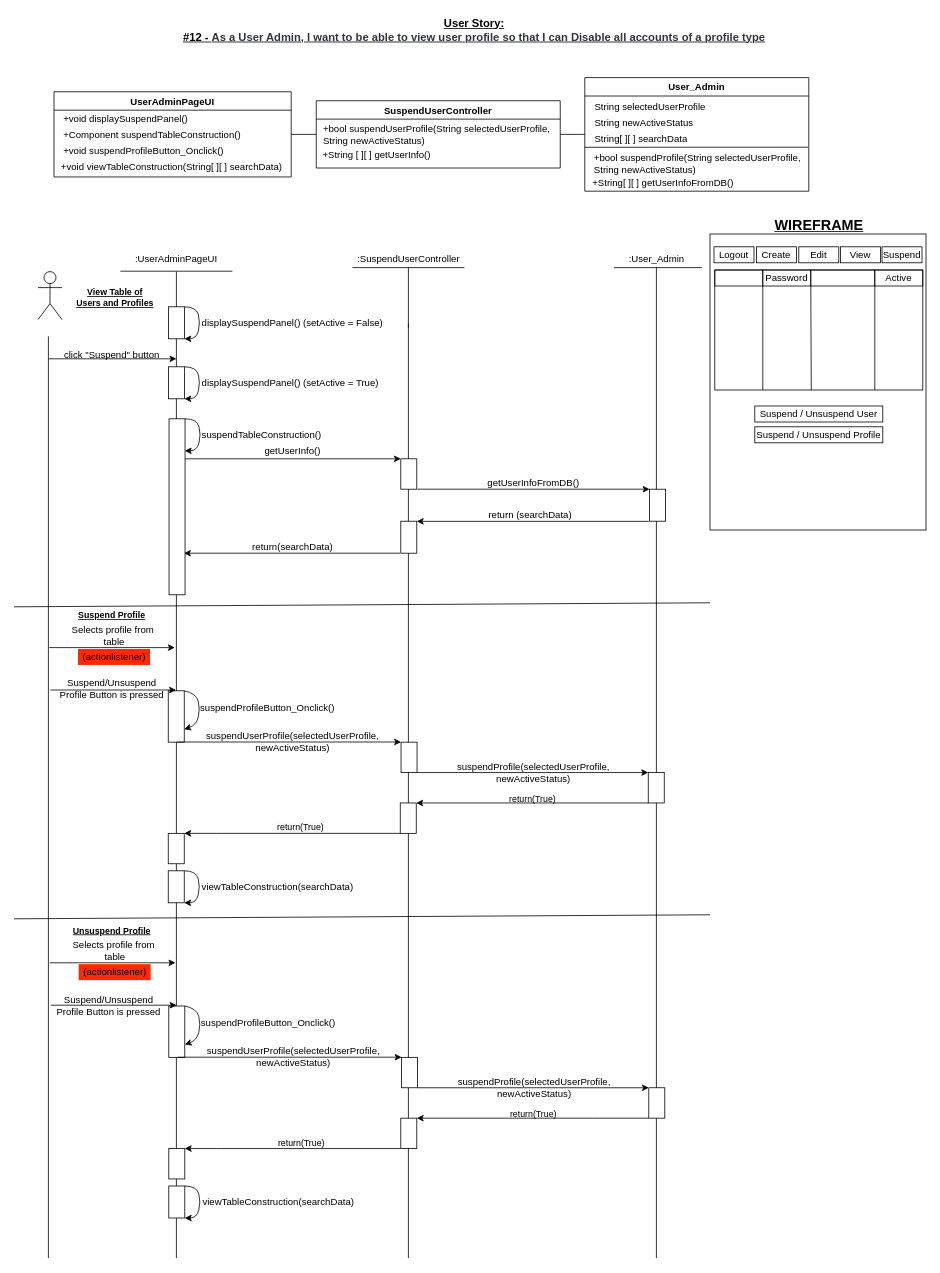
The diagram is 940 pixels wide and 1273 high, and some of its shapes have lost their labels. Each missing label, with the centre of its shape:
"User Admin" belongs at (49,295).
"User Profile" belongs at (842,277).
"Username" belongs at (738,277).
